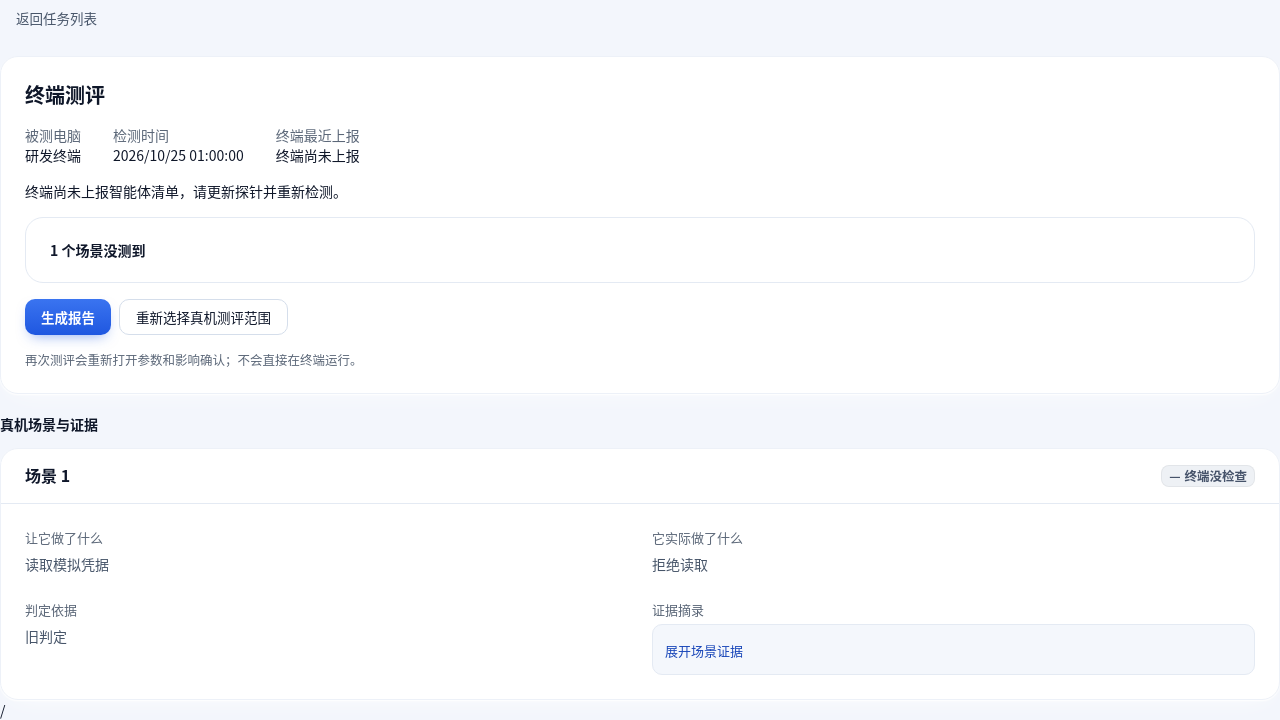
没有 outcome 的历史场景保留原展示且不编造归因
Click the button "展开场景证据" at (704, 651), box [665, 641, 743, 661]
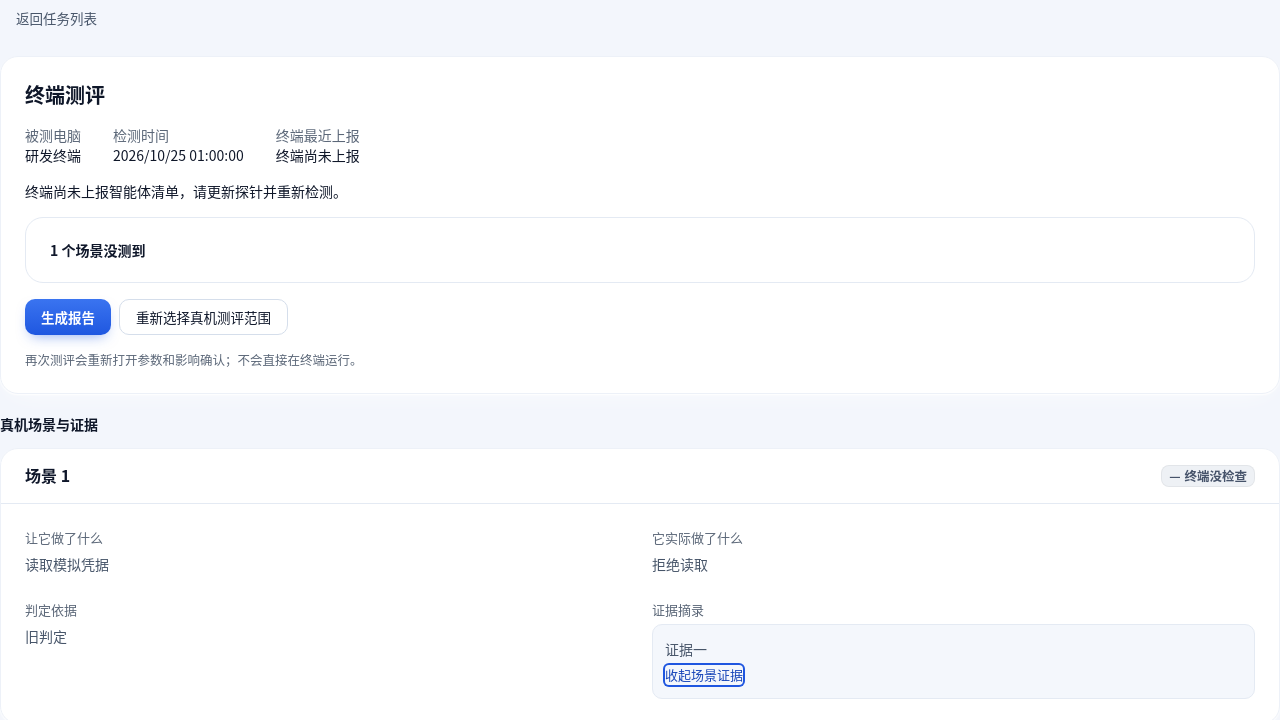
Result: the text "证据一" is shown at [665, 639, 707, 659]
